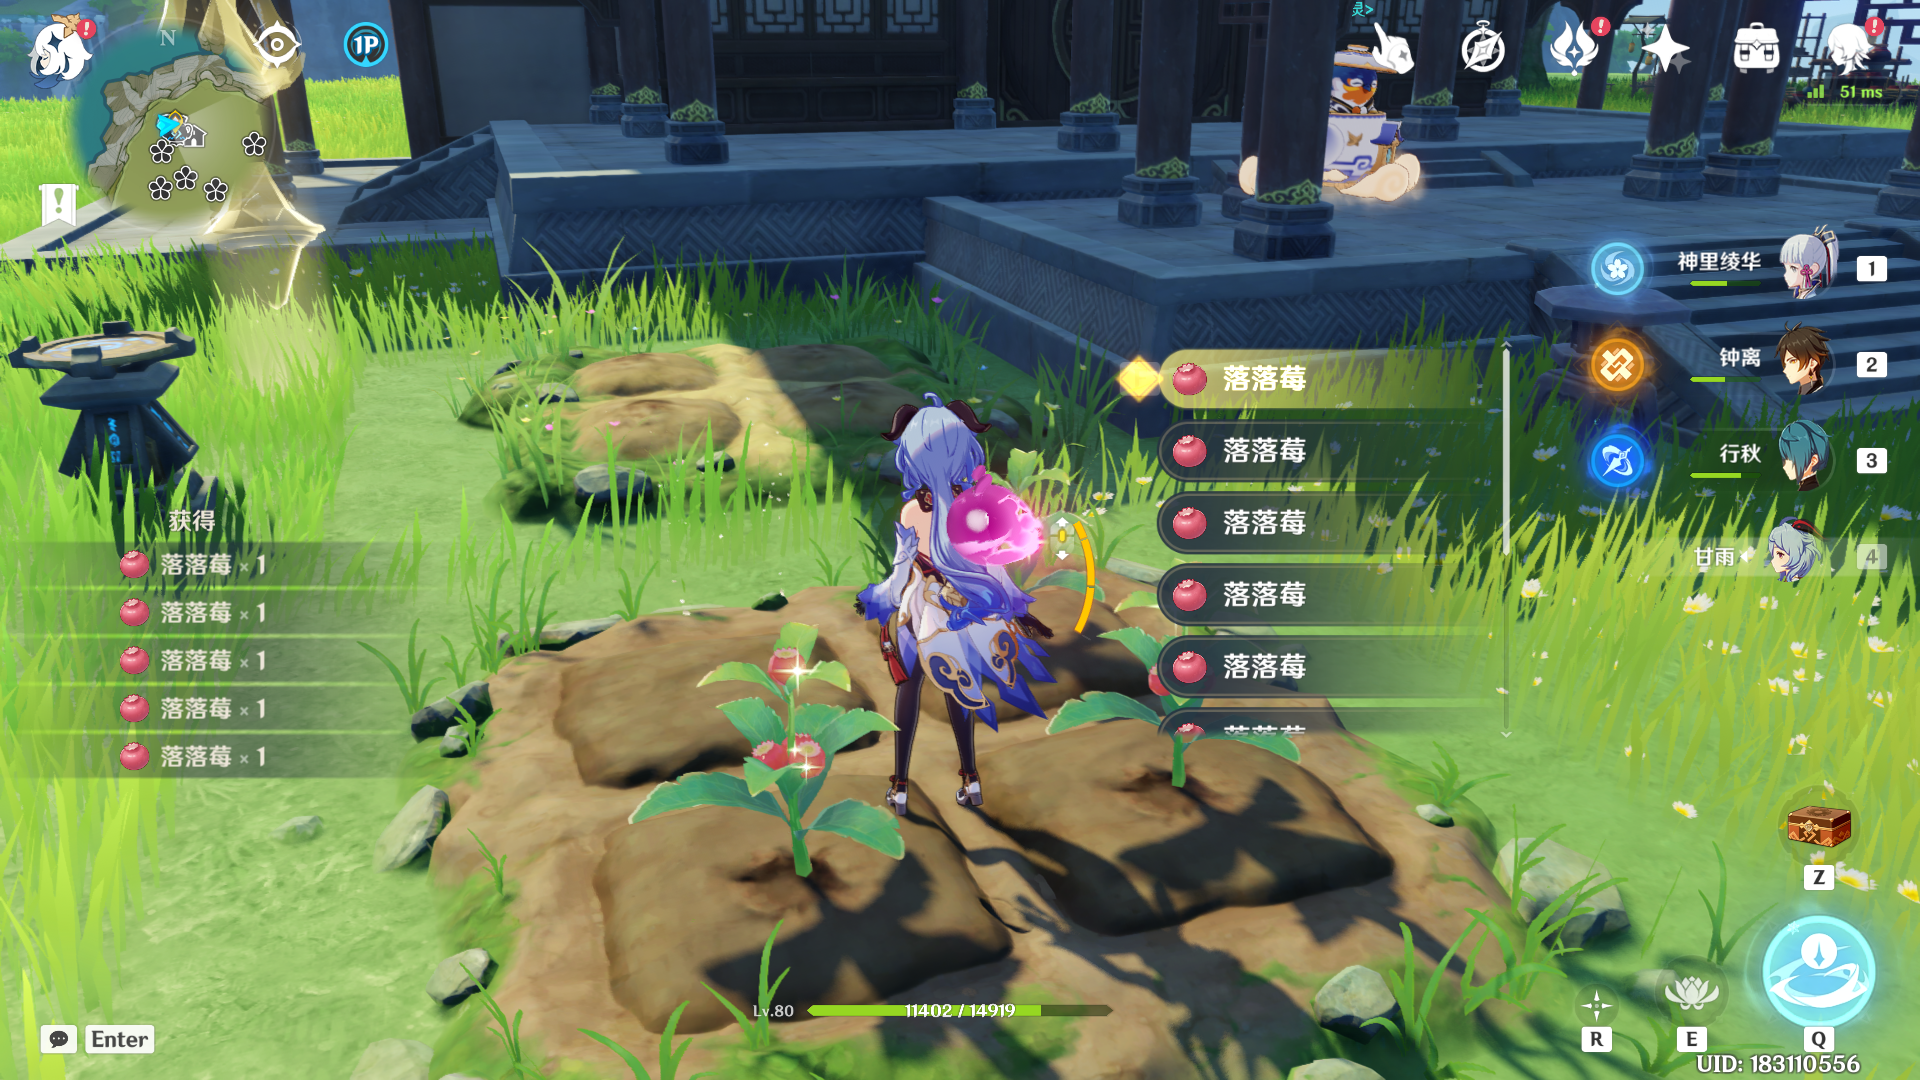character: (814, 378, 1069, 847)
